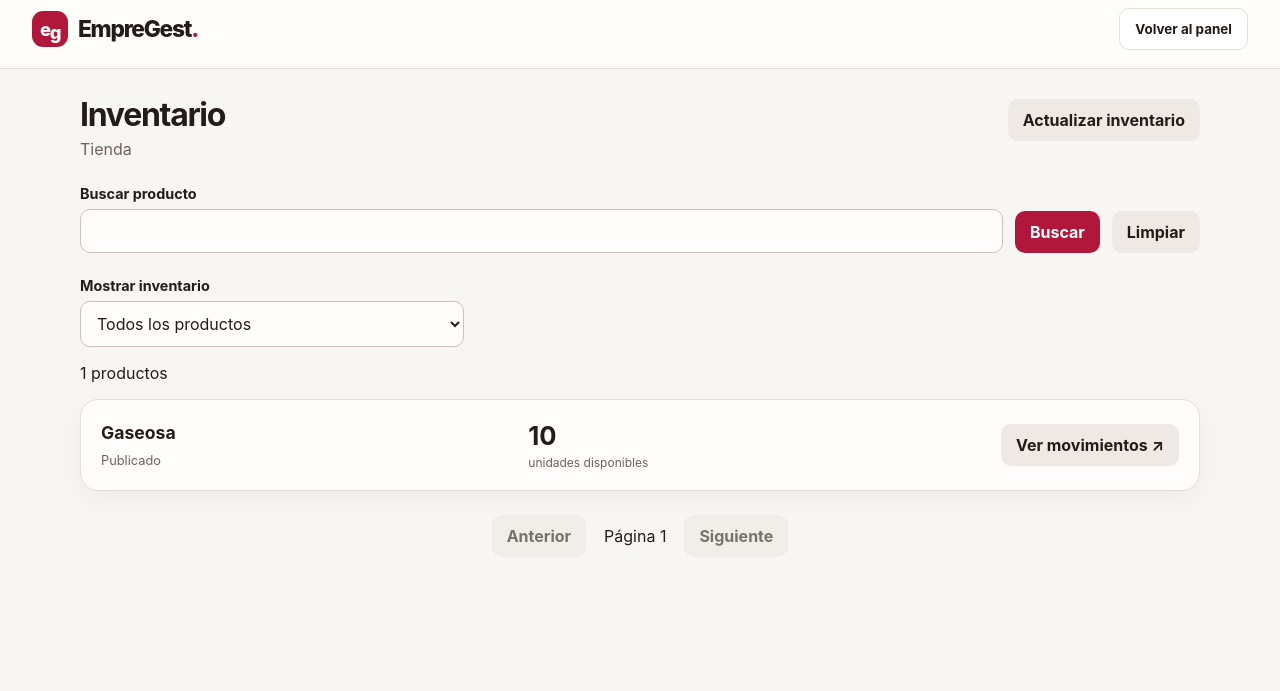
it: cantidad inválida se rechaza antes de registrar
This screenshot has width=1280, height=691.
Click the button with aria-label "Ver inventario de Gaseosa" at [1090, 445], box x1=1001 y1=424 x2=1179 y2=466
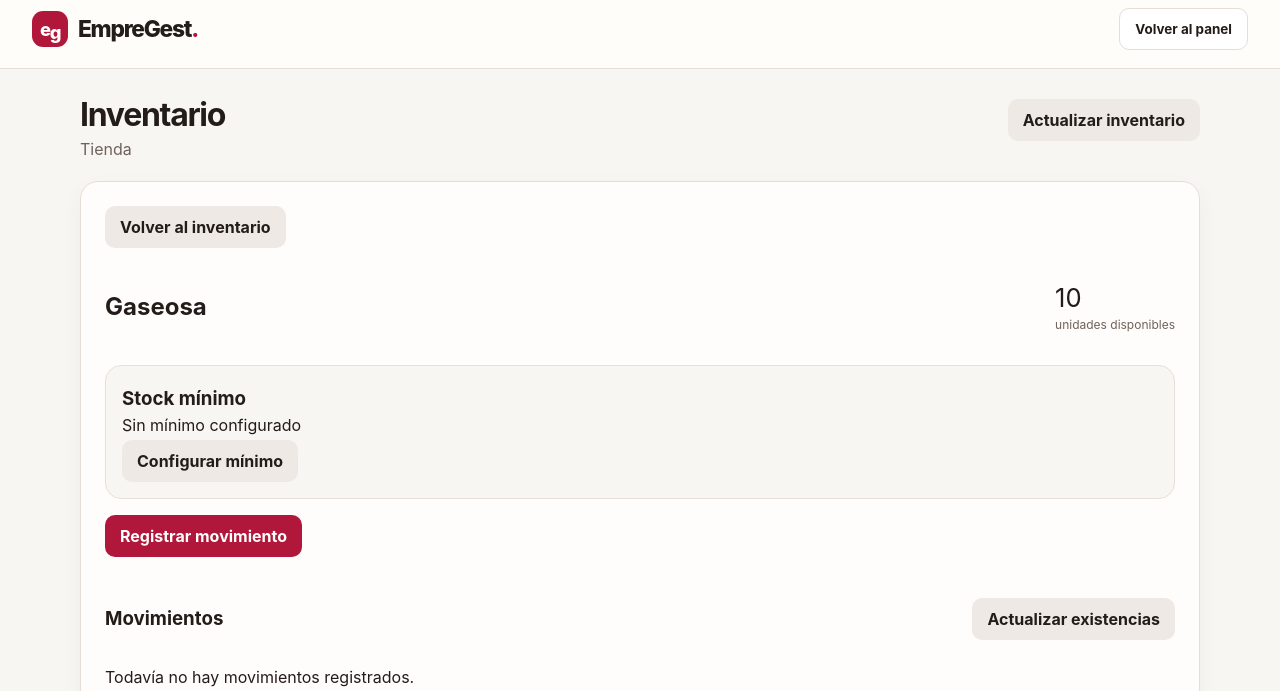
Click the button "Registrar movimiento" at [204, 536], box x1=105 y1=515 x2=302 y2=557
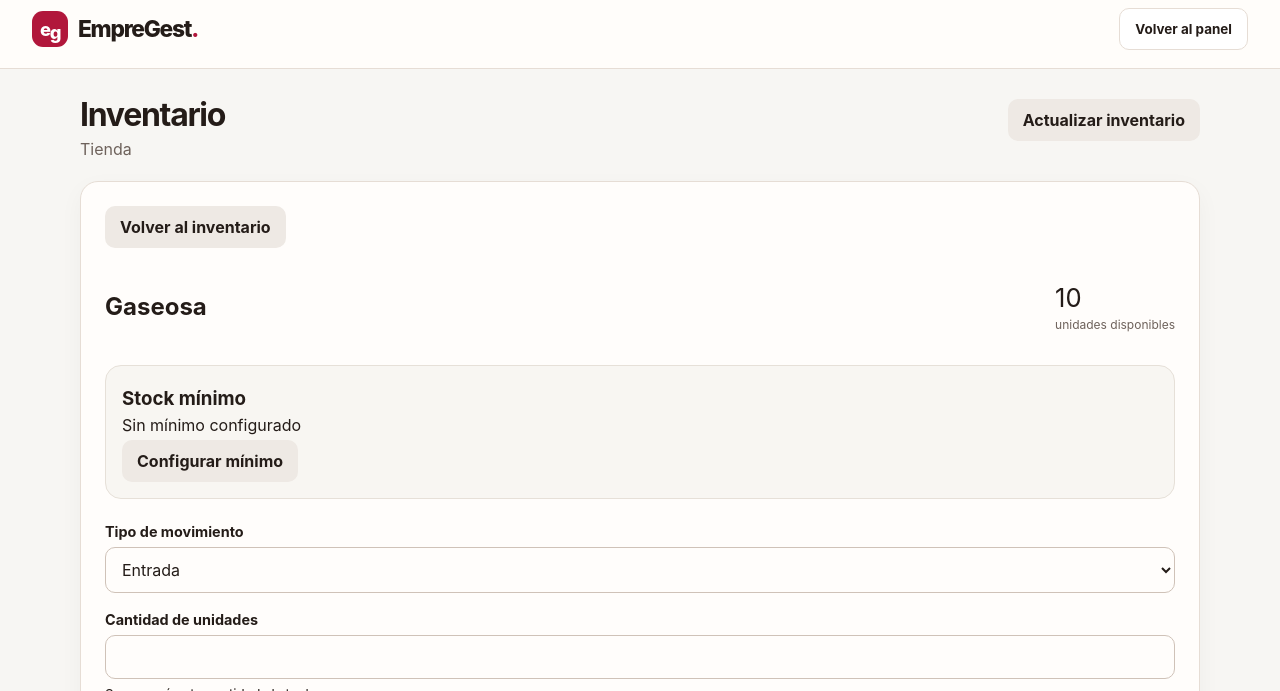
Type "-2" into the field labelled "Cantidad de unidades" at [640, 657], box x1=105 y1=635 x2=1175 y2=679
(page scrolled)
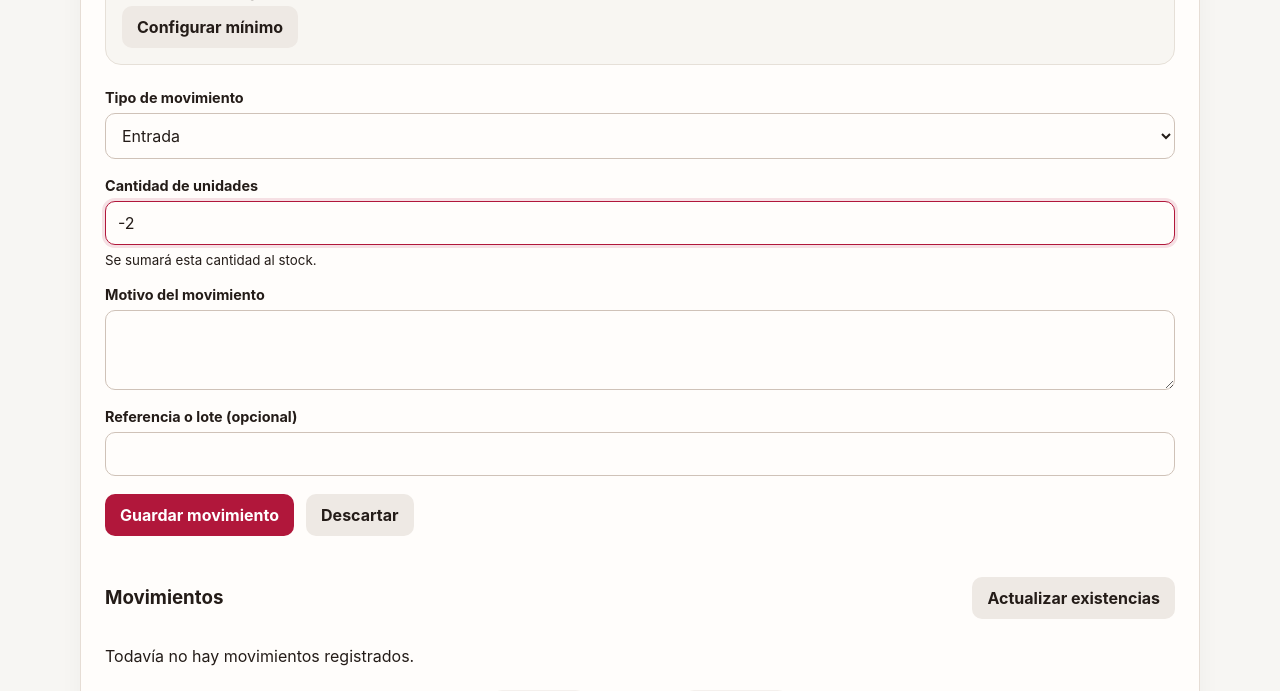
Type "Ajuste" into the text box labelled "Motivo del movimiento" at [640, 350], box x1=105 y1=310 x2=1175 y2=390
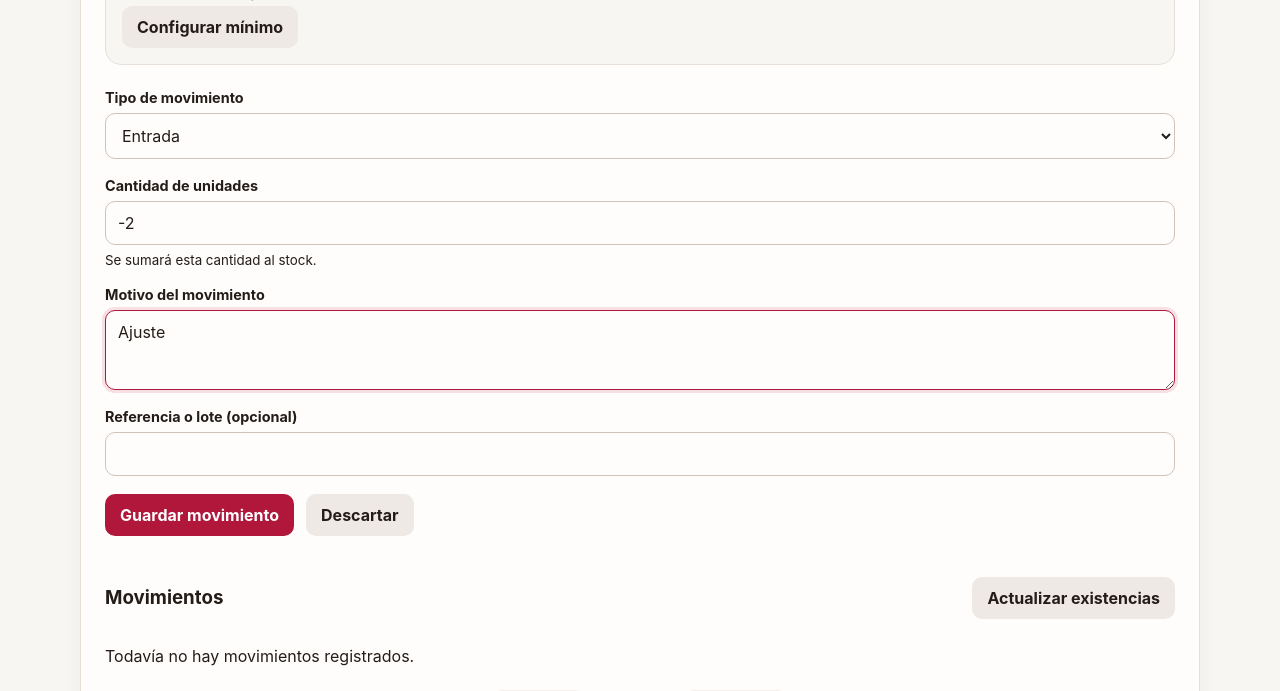
Click the button "Guardar movimiento" at [200, 515], box x1=105 y1=494 x2=294 y2=536
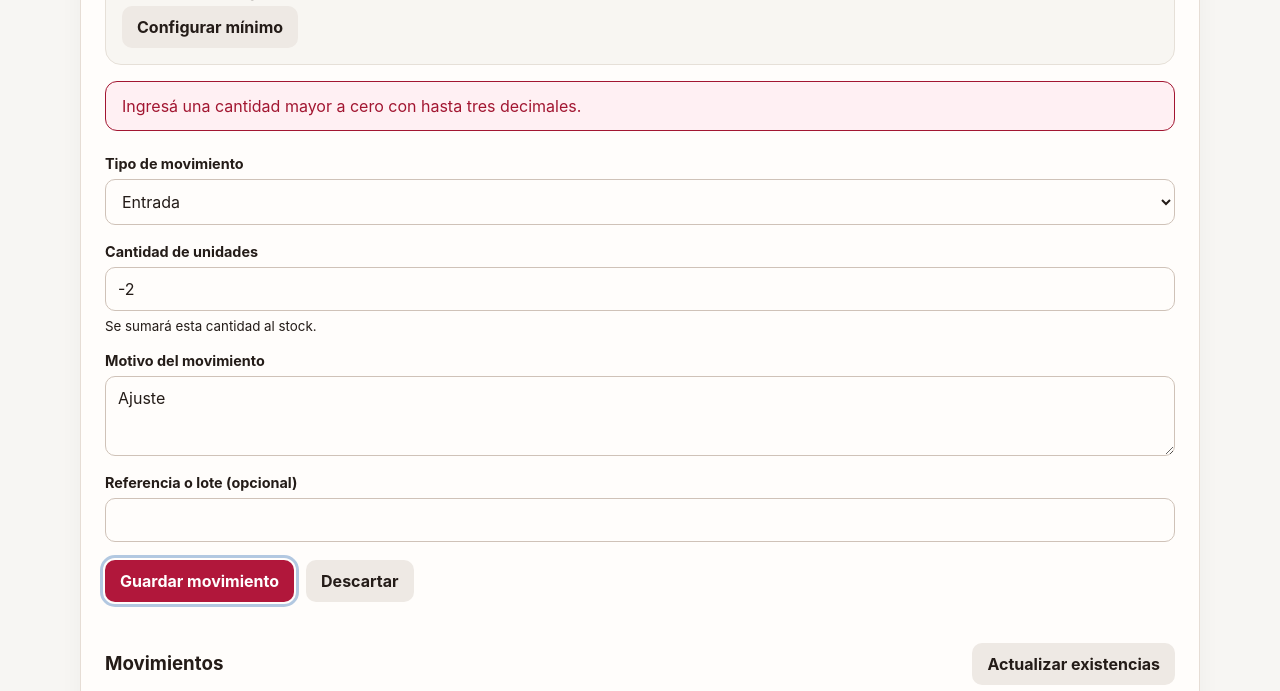
Result: the message shows "mayor a cero" at x1=122 y1=96 x2=581 y2=116
